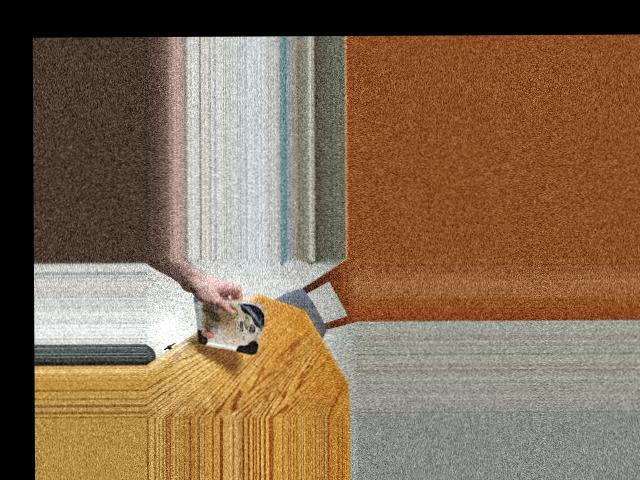cheese: (185, 298, 268, 349)
